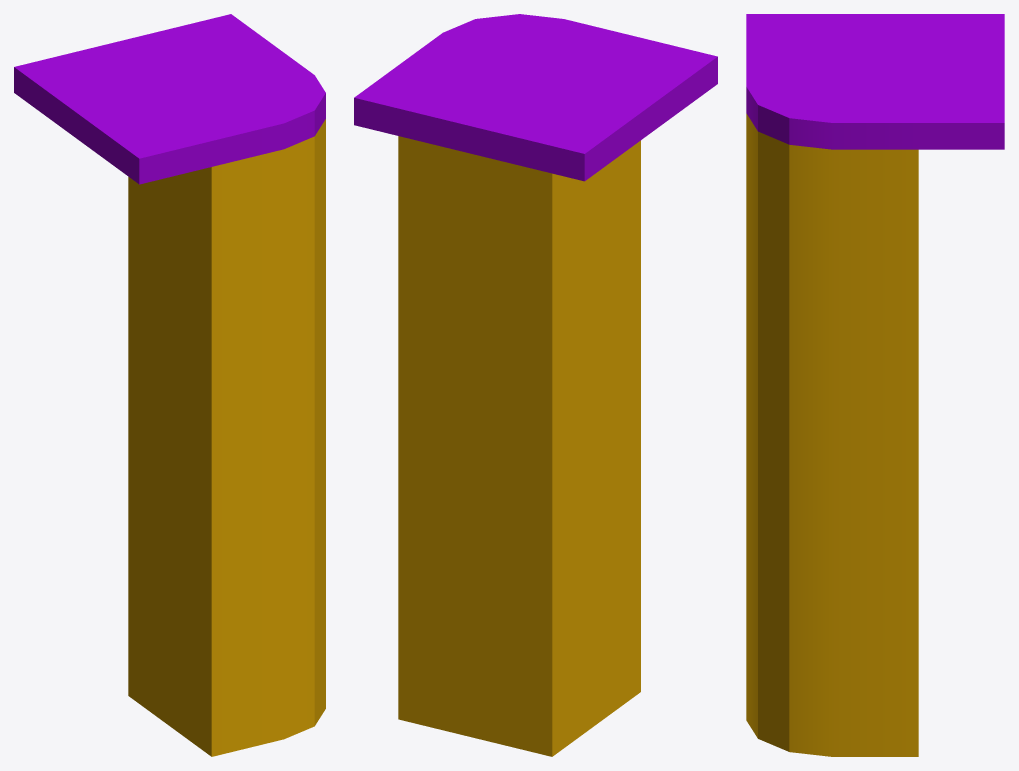
File: Watchtower2.fbx
The picture shows the model from 3 angles, left to right: view 1: azimuth 30°, elevation 25°; view 2: azimuth 150°, elevation 25°; view 3: azimuth 270°, elevation 25°; orthographic projection. The views are drawn at different scales.
Visible parts, largest first — view 1: pCube75; view 2: pCube75; view 3: pCube75.
Boxes of the visible parts, x1,y1,x2,y2 form: pCube75: (14, 14, 325, 756); pCube75: (354, 14, 717, 756); pCube75: (746, 14, 1004, 756).
Size of the model in its own units: 90 by 244 by 90.
